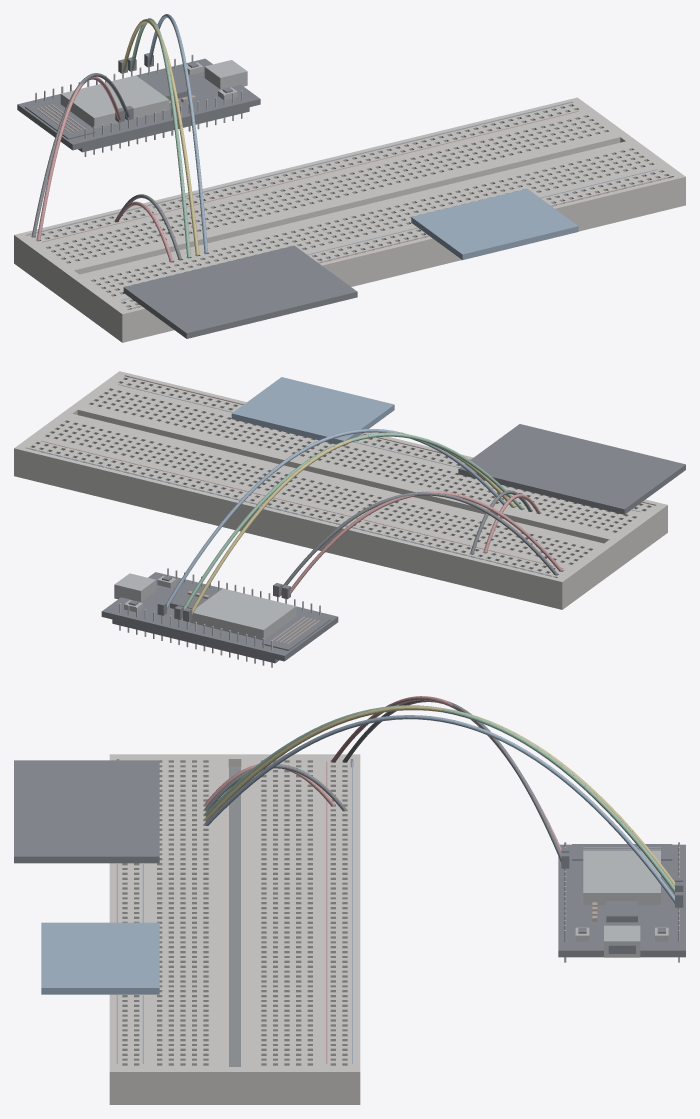
File: step-10.glb
3 renders of one model, top to bottom at view 1: azimuth 30°, elevation 25°; view 2: azimuth 150°, elevation 25°; view 3: azimuth 270°, elevation 25°, orthographic. The views are drawn at different scales.
Parts seen in each view (by area): view 1: breadboard__mesh, uno__mesh, matrix__mesh, joystick__mesh, matrix_clock__mesh, matrix_select__mesh, matrix_data__mesh, power_supply__mesh, ground_supply__mesh; view 2: breadboard__mesh, uno__mesh, matrix__mesh, joystick__mesh, matrix_clock__mesh, matrix_data__mesh, ground_supply__mesh, matrix_select__mesh, power_supply__mesh; view 3: breadboard__mesh, matrix__mesh, uno__mesh, joystick__mesh, matrix_clock__mesh, matrix_data__mesh, matrix_select__mesh, ground_supply__mesh, power_supply__mesh, matrix_ground__mesh.
Part boxes in pixels (box(x1,y1,x2,y2)): breadboard__mesh: box(14, 97, 685, 342); uno__mesh: box(17, 54, 260, 156); matrix__mesh: box(123, 245, 357, 338); joystick__mesh: box(411, 188, 578, 260); matrix_clock__mesh: box(144, 14, 208, 253); matrix_select__mesh: box(118, 19, 199, 255); matrix_data__mesh: box(127, 18, 190, 257); power_supply__mesh: box(36, 76, 124, 240); ground_supply__mesh: box(31, 73, 133, 236); breadboard__mesh: box(14, 371, 667, 609); uno__mesh: box(101, 568, 338, 667); matrix__mesh: box(458, 424, 685, 514); joystick__mesh: box(231, 377, 394, 446); matrix_clock__mesh: box(157, 429, 505, 615); matrix_data__mesh: box(174, 433, 523, 619); ground_supply__mesh: box(273, 492, 557, 596); matrix_select__mesh: box(183, 432, 514, 621); power_supply__mesh: box(281, 491, 562, 599); breadboard__mesh: box(109, 754, 360, 1104); matrix__mesh: box(14, 760, 159, 863); uno__mesh: box(558, 842, 685, 962); joystick__mesh: box(41, 922, 159, 994); matrix_clock__mesh: box(204, 715, 683, 907); matrix_data__mesh: box(204, 705, 683, 893); matrix_select__mesh: box(204, 706, 683, 886); ground_supply__mesh: box(343, 700, 569, 868); power_supply__mesh: box(331, 696, 569, 852); matrix_ground__mesh: box(204, 764, 346, 811).
Bounding box in the file's own units: 0.165 × 0.044 × 0.1475.
